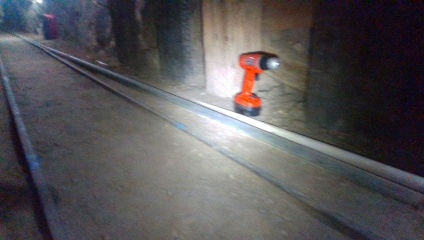backpack: (41, 13, 59, 41)
drill: (232, 52, 281, 117)
